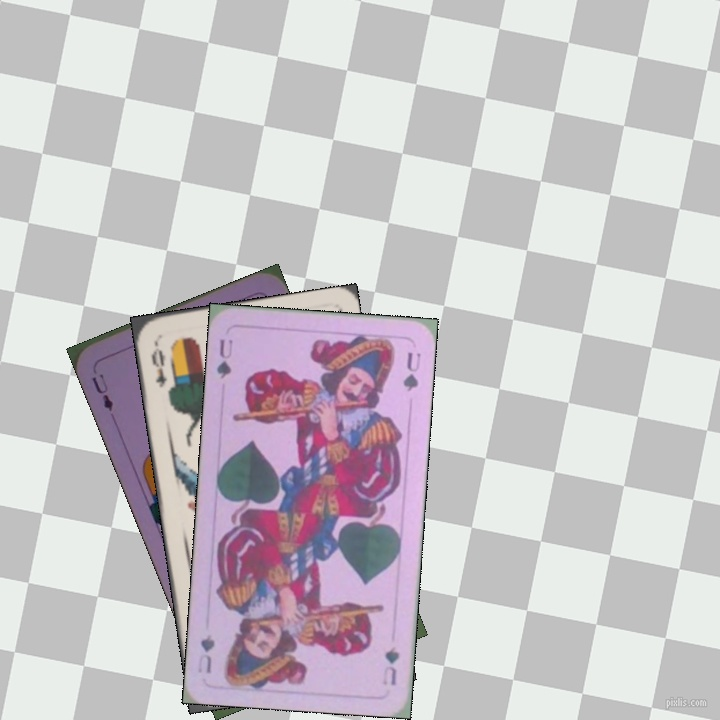EO: (147, 338, 170, 390)
EU: (88, 369, 116, 414)
GU: (378, 643, 402, 688), (212, 335, 235, 381)
